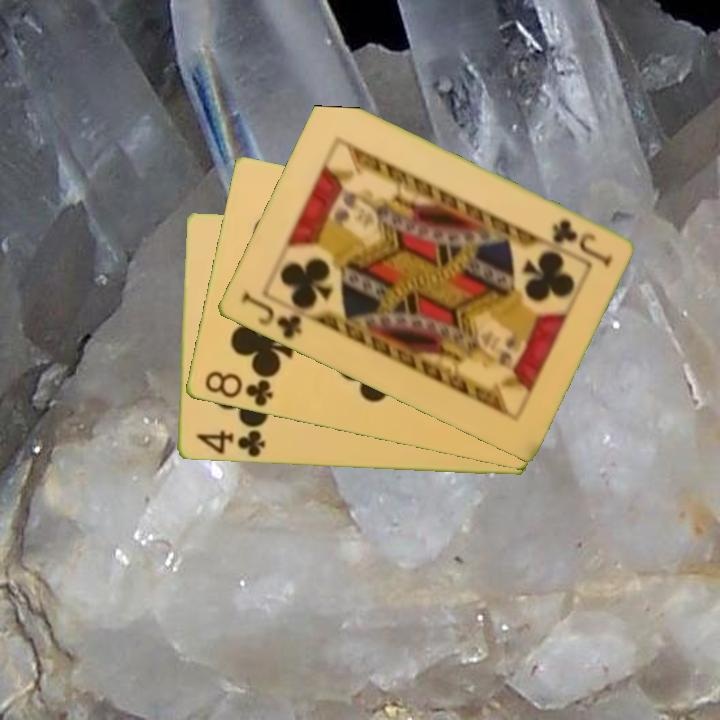4c: (191, 426, 267, 460)
8c: (201, 368, 276, 410)
Jc: (237, 289, 305, 342), (548, 216, 616, 269)
